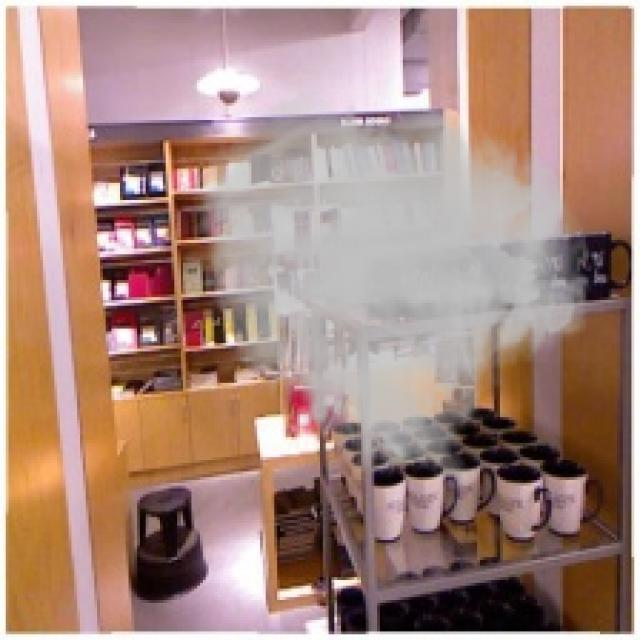Smoke: (192, 86, 594, 492)
